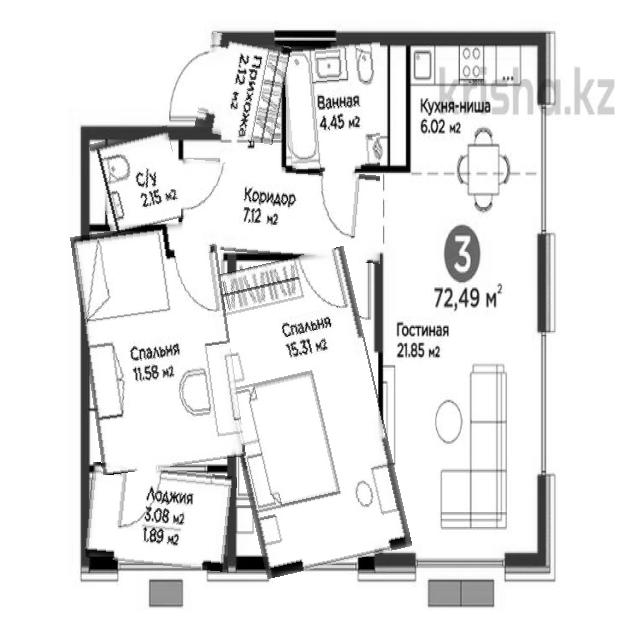balcony: (86, 465, 235, 569)
bathroom: (284, 39, 396, 172), (94, 129, 184, 230)
hallway: (180, 164, 385, 260), (199, 36, 287, 142)
living_room: (215, 253, 396, 573), (78, 222, 238, 471)
studio: (380, 39, 544, 561)
